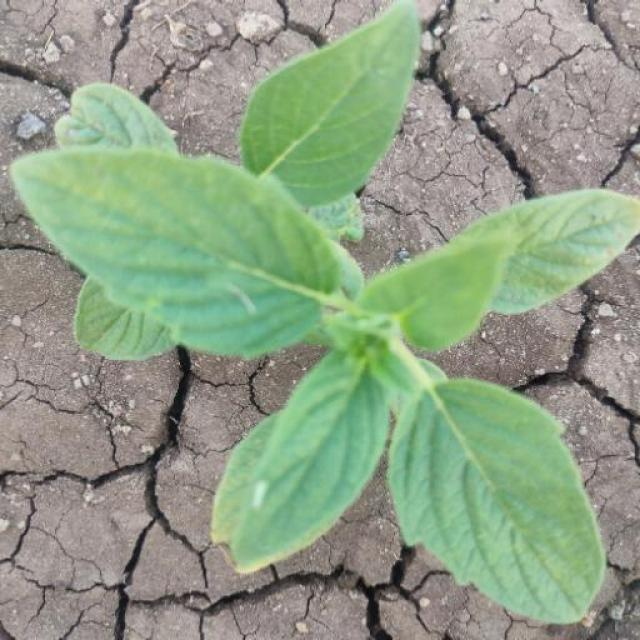crop: (15, 16, 627, 619)
